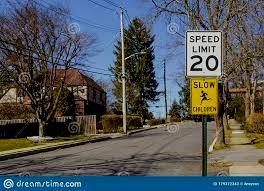20 MPH: (186, 30, 224, 78)
